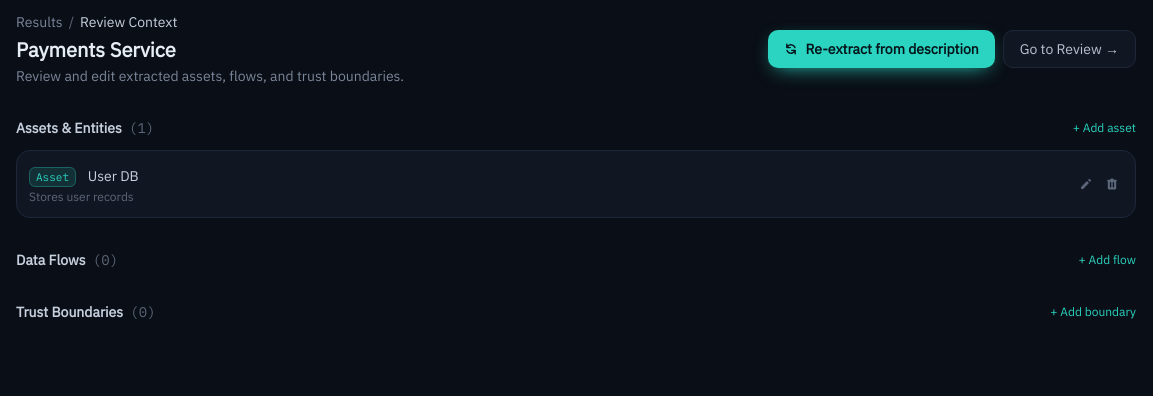
Scenario: ReviewContext — assets CRUD › edits an existing asset
Check: the text "User DB" is shown, box [88,167,139,185]
Click the button named "Edit asset User DB" at [1086, 184], box [1075,173,1097,195]
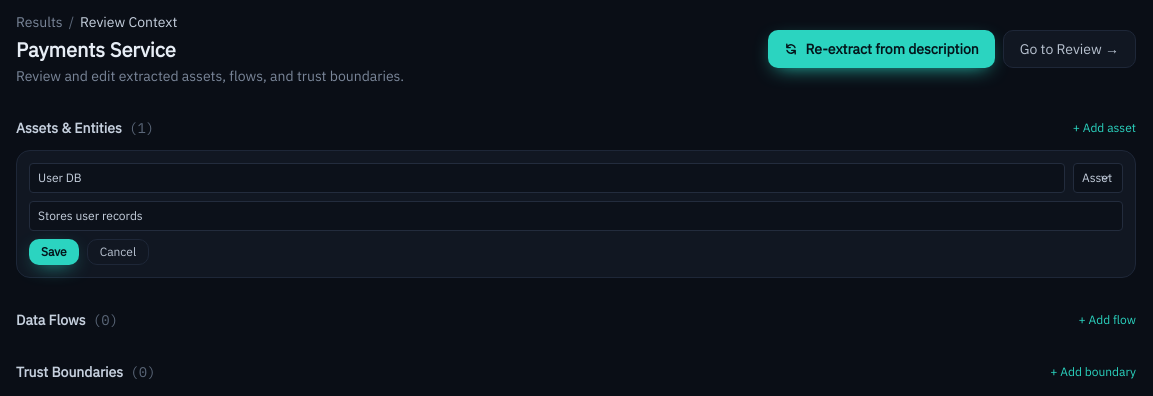
Replace the text in the field named "Asset name" with "Renamed DB" at [547, 178], box [29,163,1065,193]
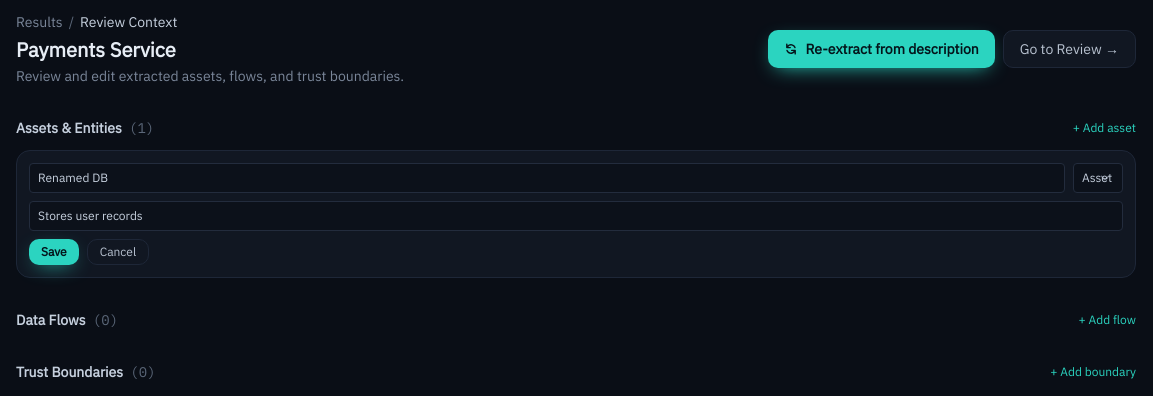
Click the button "Save" at [54, 252], box [29,239,79,265]
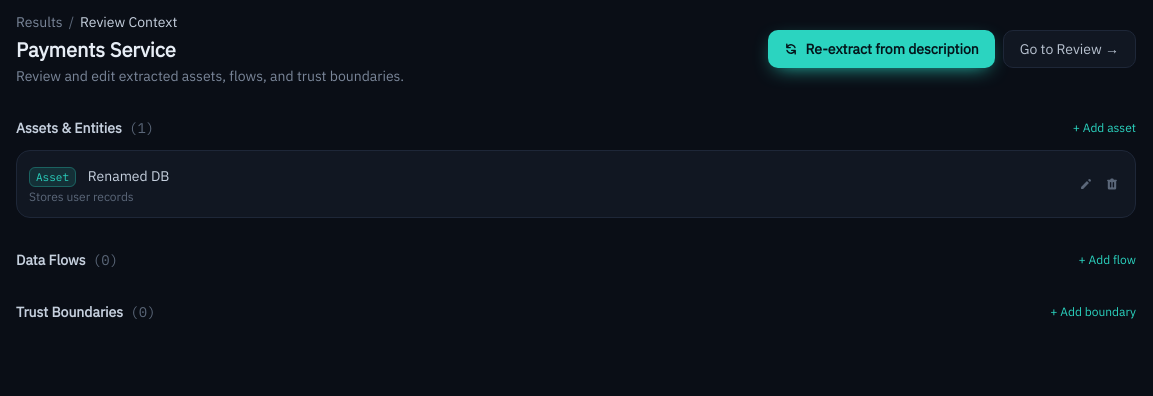
Check: the text "Renamed DB" is shown, box [88,167,170,185]
